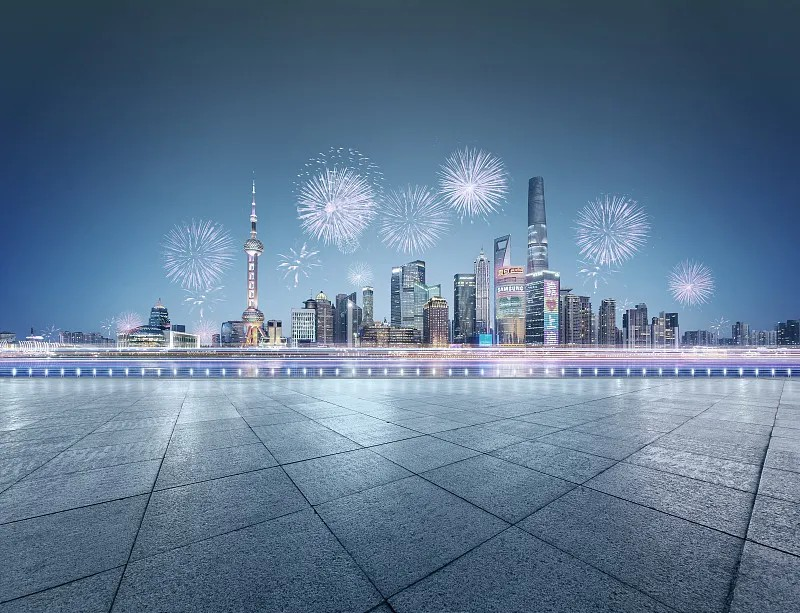Oriental: (243, 172, 268, 343)
